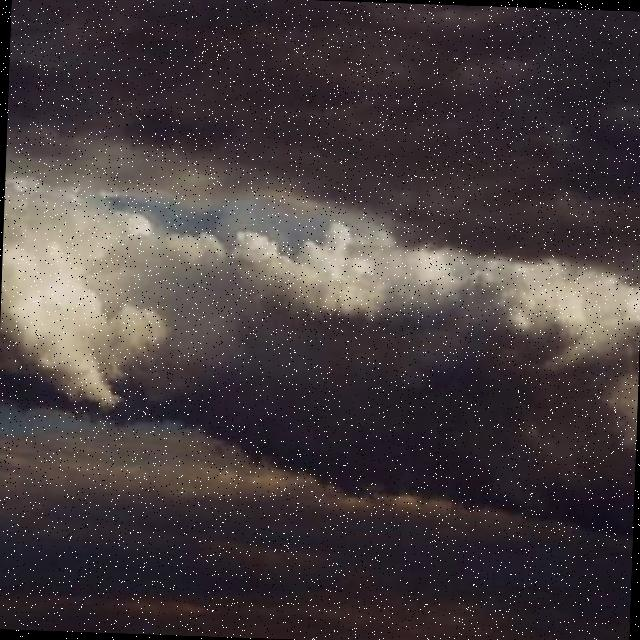Sc: (1, 163, 640, 563)
